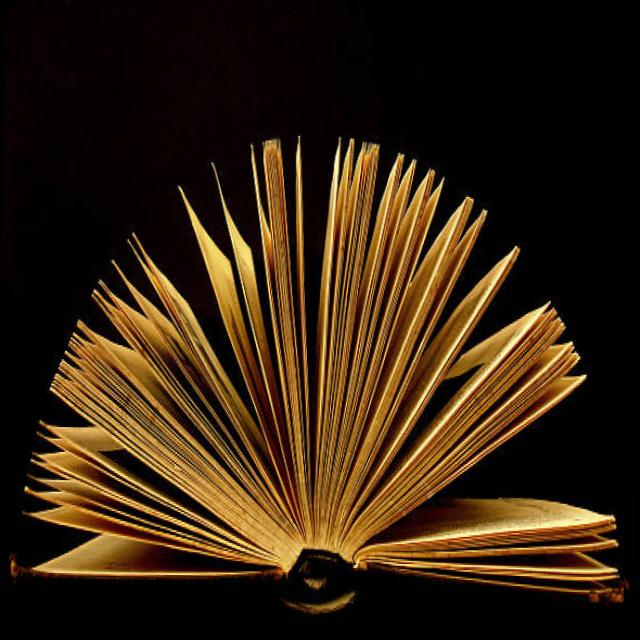electronic: (10, 125, 633, 616)
